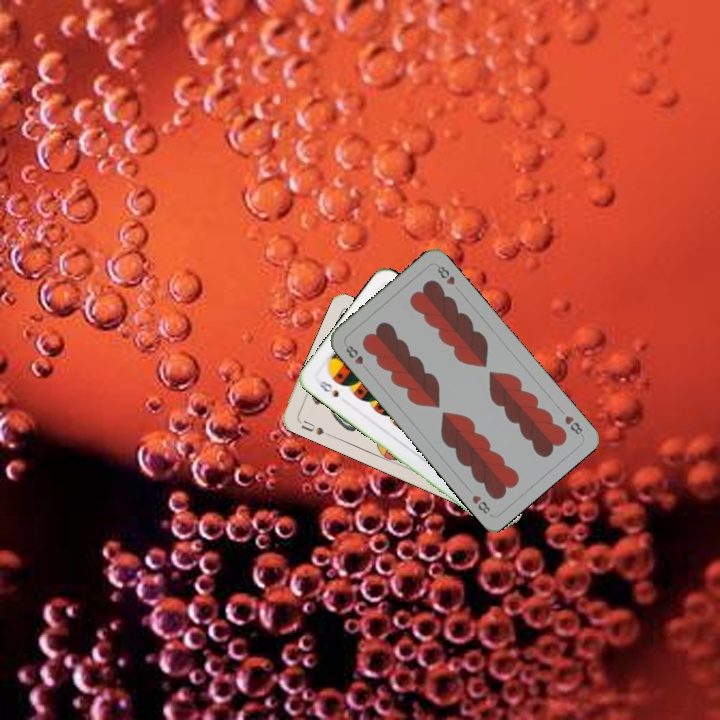H8: (561, 411, 586, 438), (341, 341, 366, 367)
S8: (312, 377, 341, 400)
SU: (295, 416, 333, 439)
